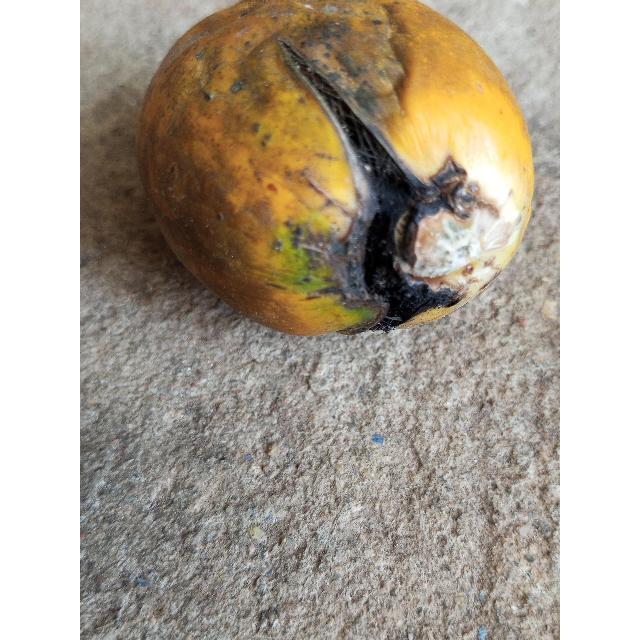damaged: (136, 0, 536, 339)
